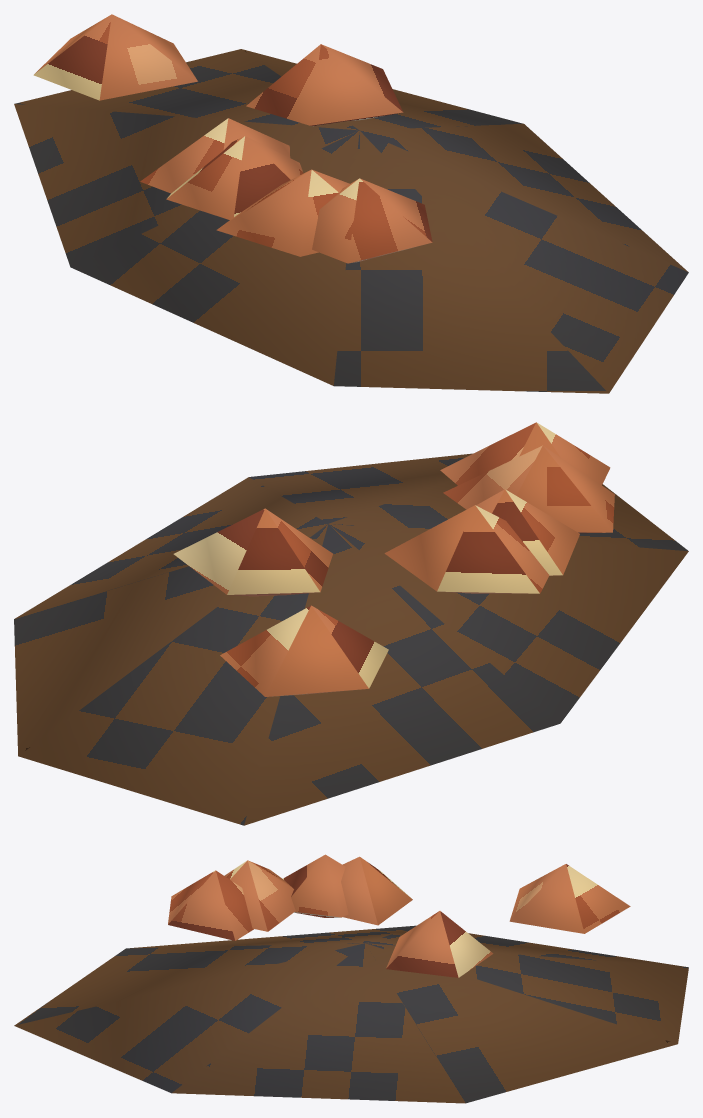
File: wprop.tombstone__cairn.glb
3 views of the same model, one above another, from view 1: azimuth 30°, elevation 25°; view 2: azimuth 150°, elevation 25°; view 3: azimuth 270°, elevation 25° (orthographic). The views are drawn at different scales.
Parts seen in each view (by area): view 1: kit_mound, kit_stones; view 2: kit_mound, kit_stones; view 3: kit_mound, kit_stones.
Part boxes in pixels (x1,y1,x2,y2): kit_mound: (14, 49, 688, 393); kit_stones: (33, 14, 432, 263); kit_mound: (14, 453, 688, 825); kit_stones: (173, 422, 614, 696); kit_mound: (14, 925, 688, 1103); kit_stones: (168, 854, 630, 977).
Bounding box in the file's own units: 0.8468 × 0.328 × 1.34.
Materials: 2 (2 with a texture image).
